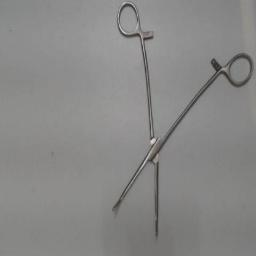Lahey Forceps: (104, 1, 254, 239)
